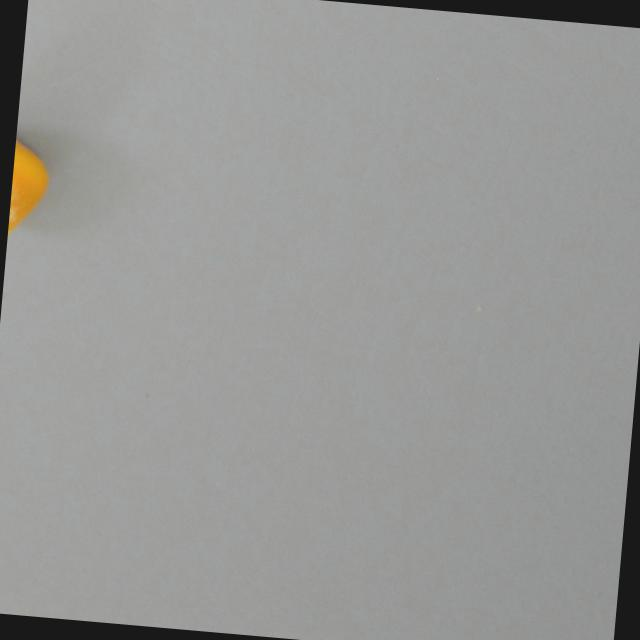pelicula: (6, 131, 52, 242)
